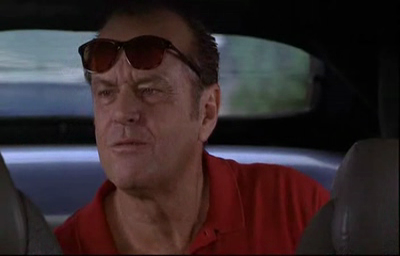cu: (1, 1, 400, 256)
face: (91, 50, 187, 190)
person: (52, 1, 331, 256)
